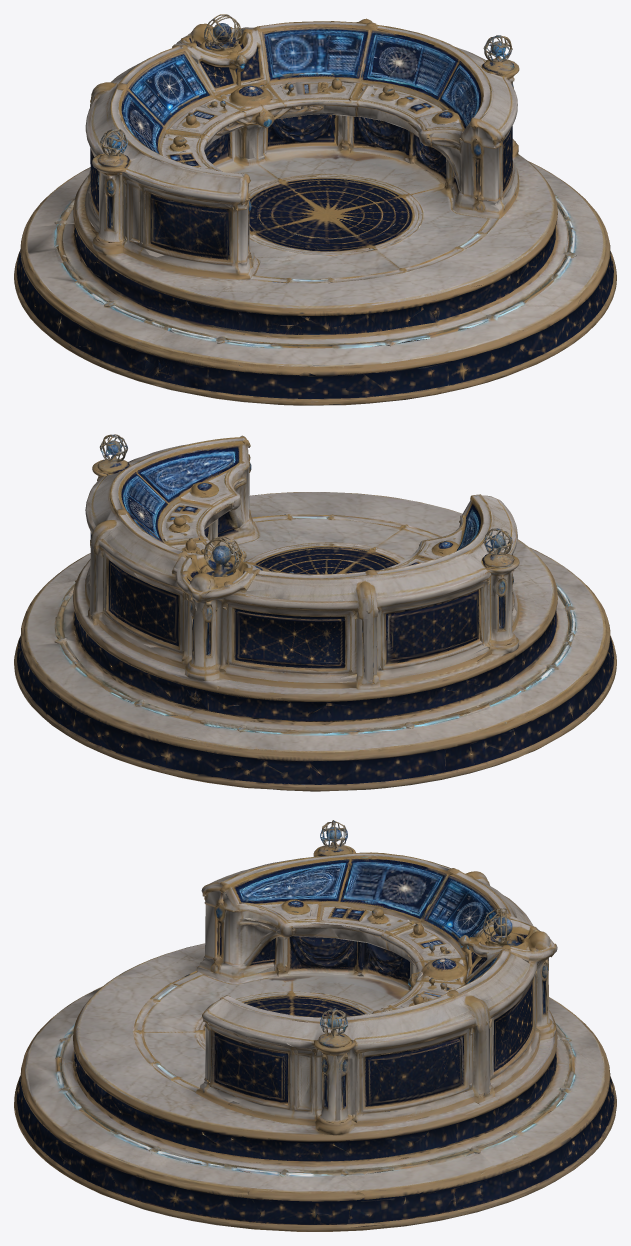
Rendered from console-model-candidate-01.glb.
3 renders of one model, top to bottom at view 1: azimuth 30°, elevation 25°; view 2: azimuth 150°, elevation 25°; view 3: azimuth 270°, elevation 25°, orthographic.
Parts seen in each view (by area): view 1: mesh_node; view 2: mesh_node; view 3: mesh_node.
Part boxes in pixels (left/top/right/bottom): mesh_node: left=14, top=14, right=616, bottom=405; mesh_node: left=14, top=434, right=616, bottom=791; mesh_node: left=14, top=820, right=616, bottom=1231.
Size of the model in its own units: 2 by 0.7177 by 2.
Materials: 1 (1 with a texture image).
